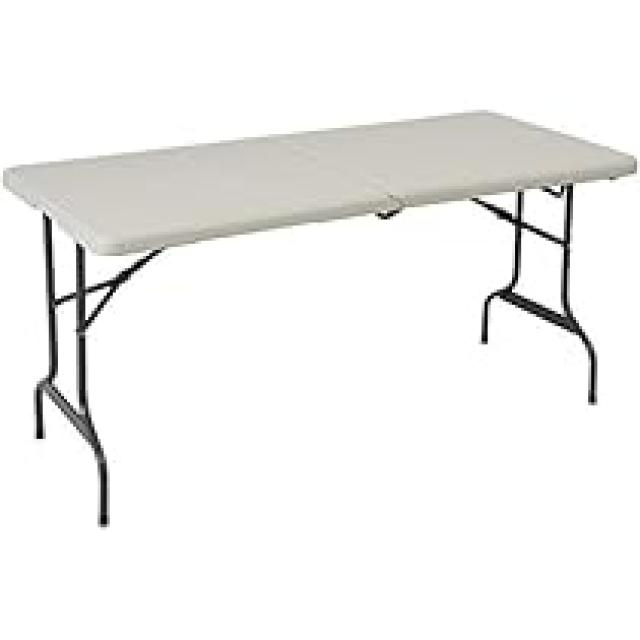Plastic: (3, 110, 640, 259)
